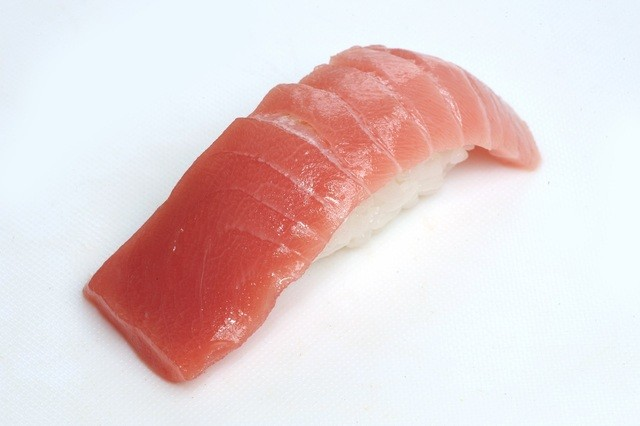medium_fatty_tuna: (80, 43, 548, 389)
